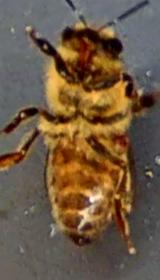varroa_mite: (106, 128, 140, 166)
